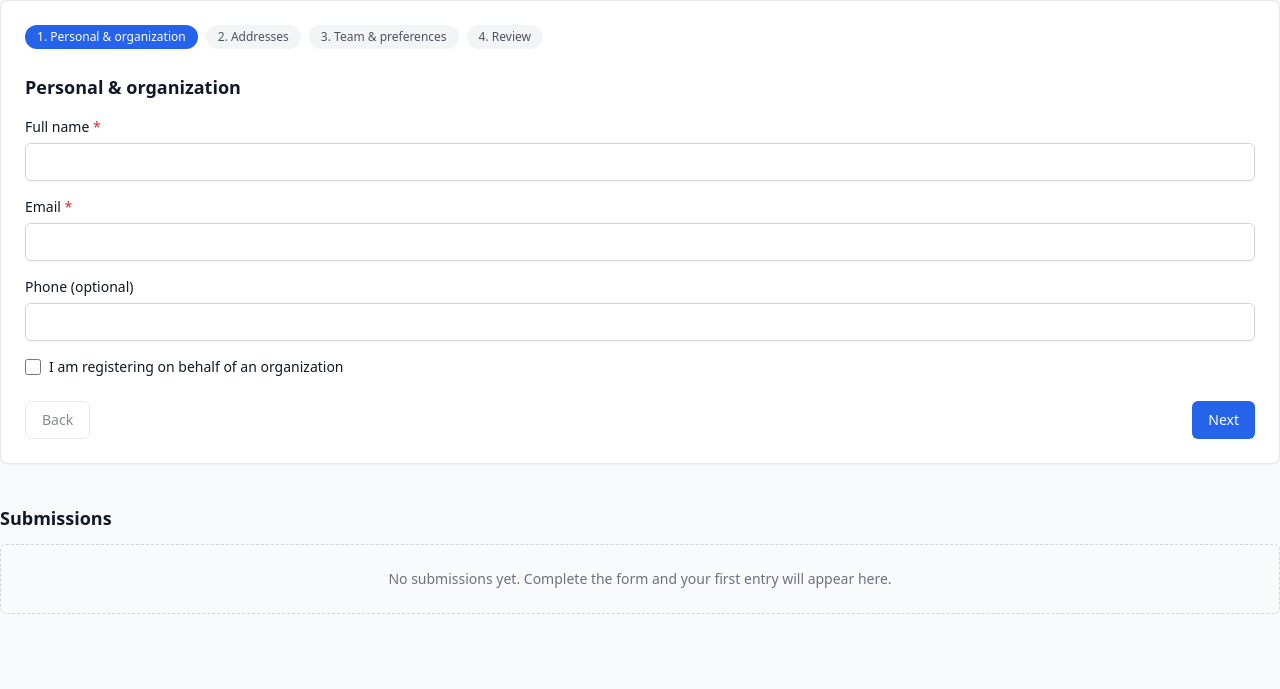
Test case: OnboardingForm › adds and removes dynamic address rows
Type "Mehdi Rezaii" into the field labelled "Full name *" at [640, 162], box [25,143,1255,181]
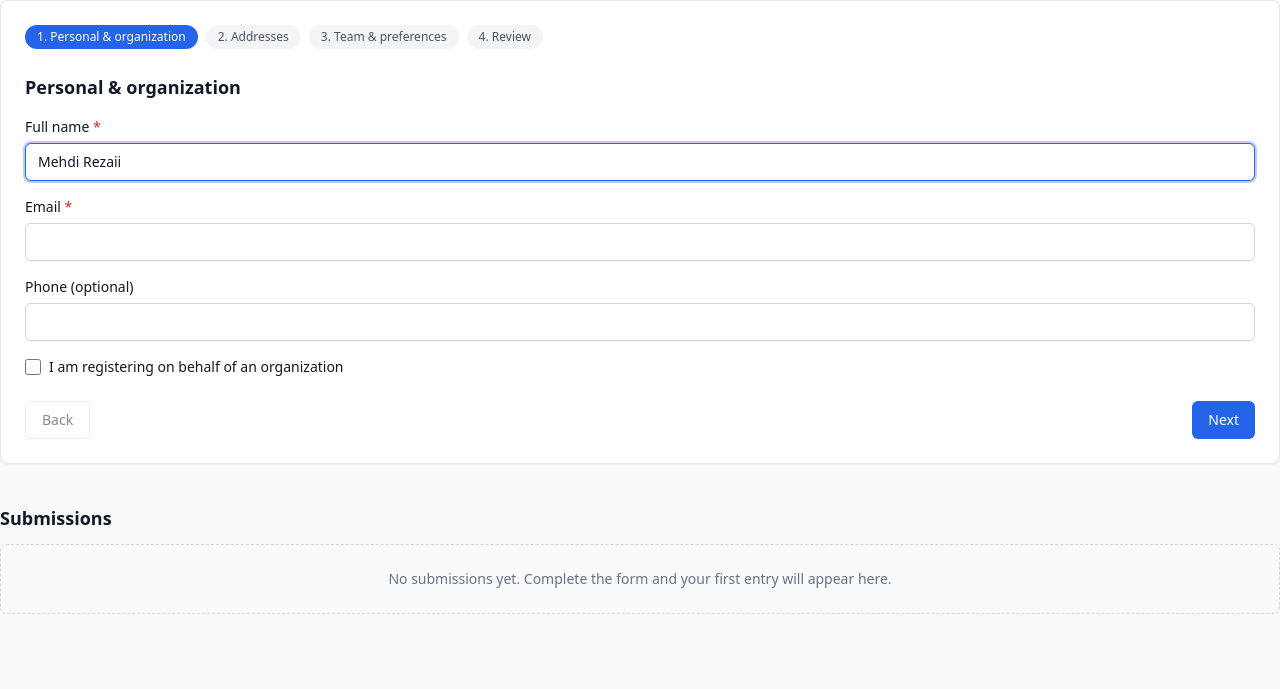
Type "mehdi@example.com" into the field labelled "Email *" at [640, 242], box [25,223,1255,261]
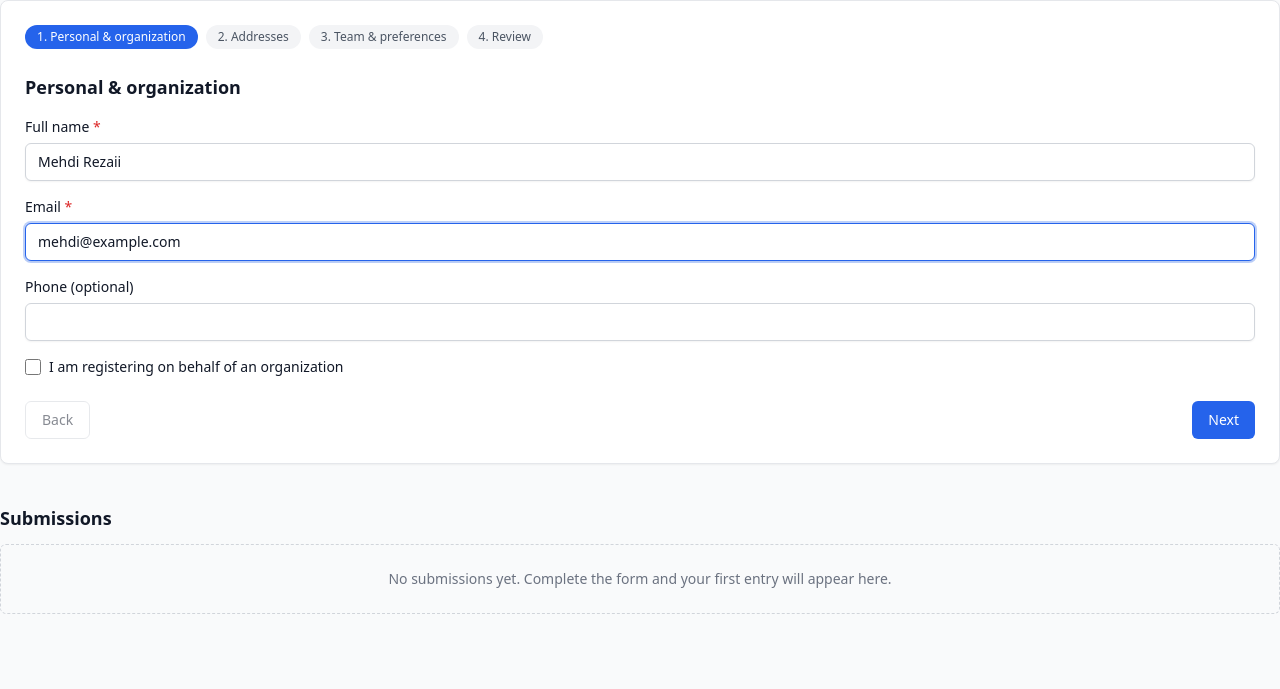
Click the button "Next" at [1224, 420], box [1192,401,1255,439]
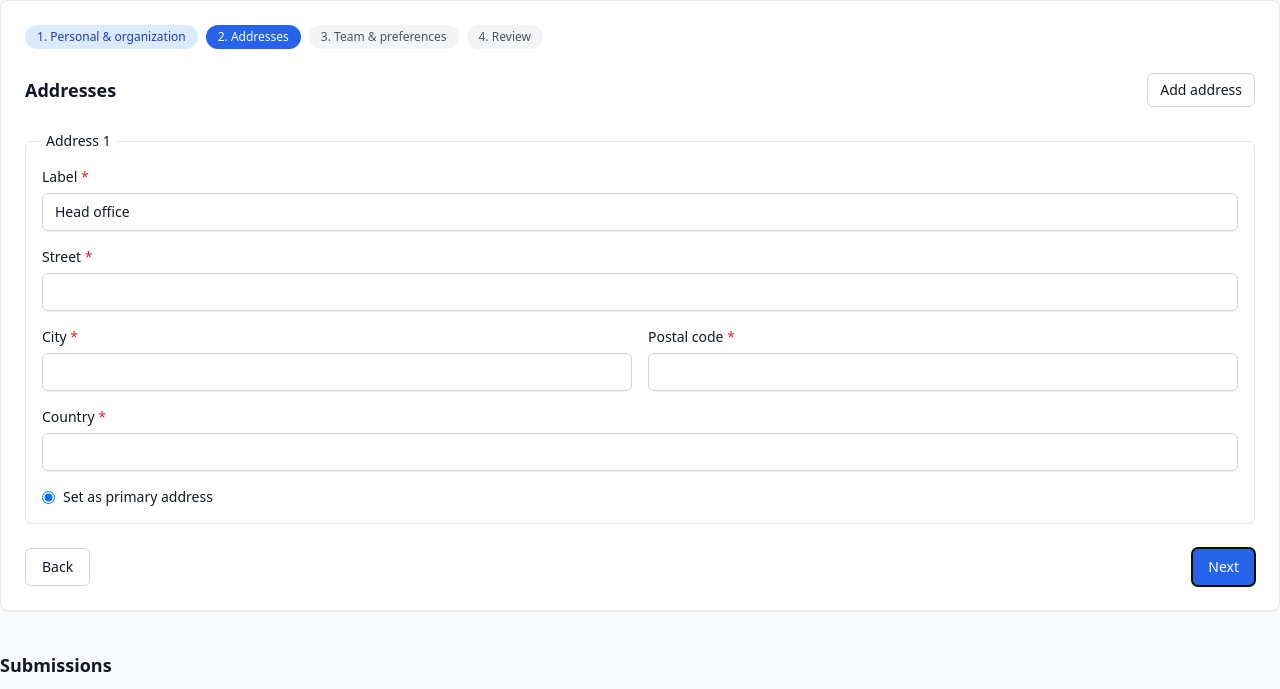
Result: the heading "Addresses" is shown at [25,76,116,104]
Click the button "Add address" at [1201, 90], box [1147,73,1255,107]
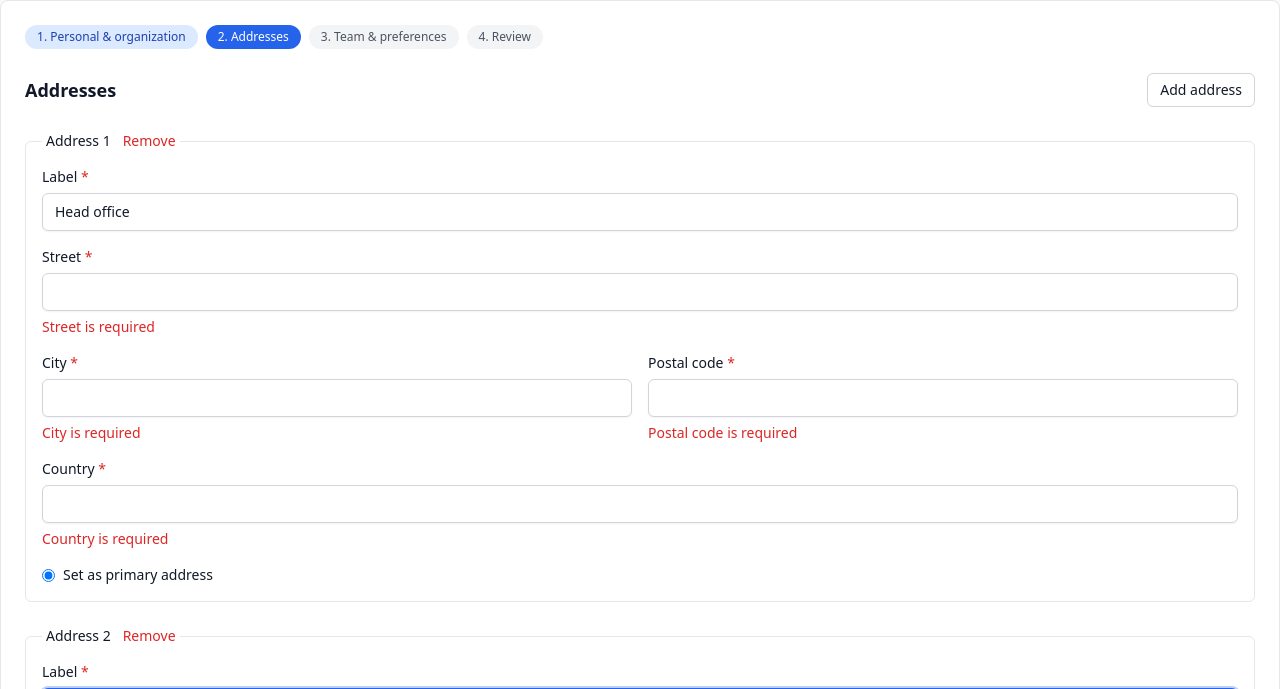
Result: the text "Address 2" is shown at [42,626,180,646]
Click the button with aria-label "Remove address 2" at [149, 636], box [123,626,176,646]
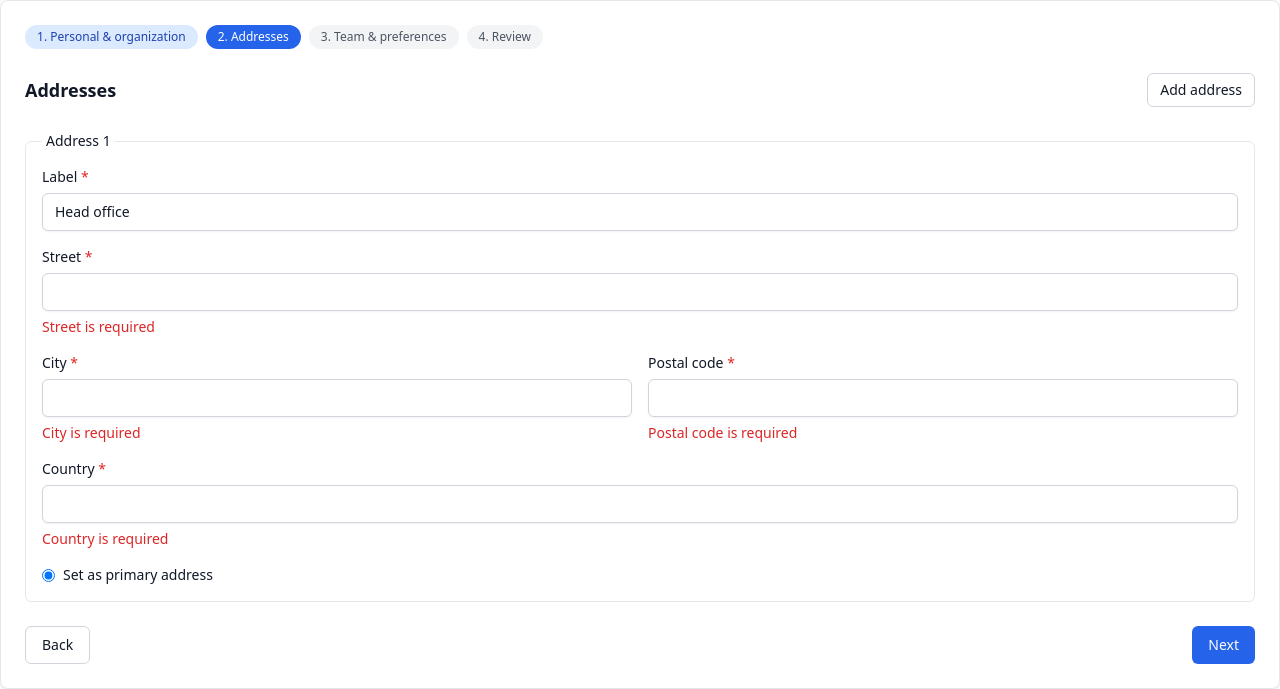
Result: the text "Address 2" is gone
